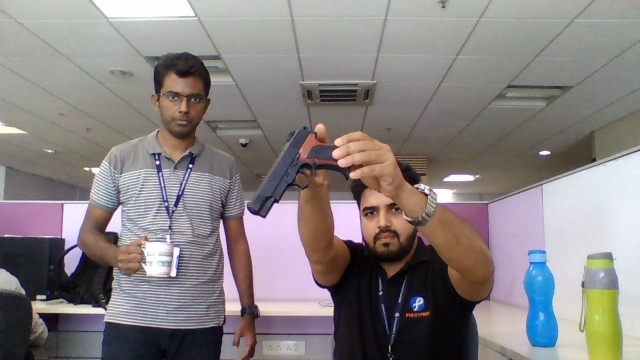gun: (247, 126, 298, 219)
